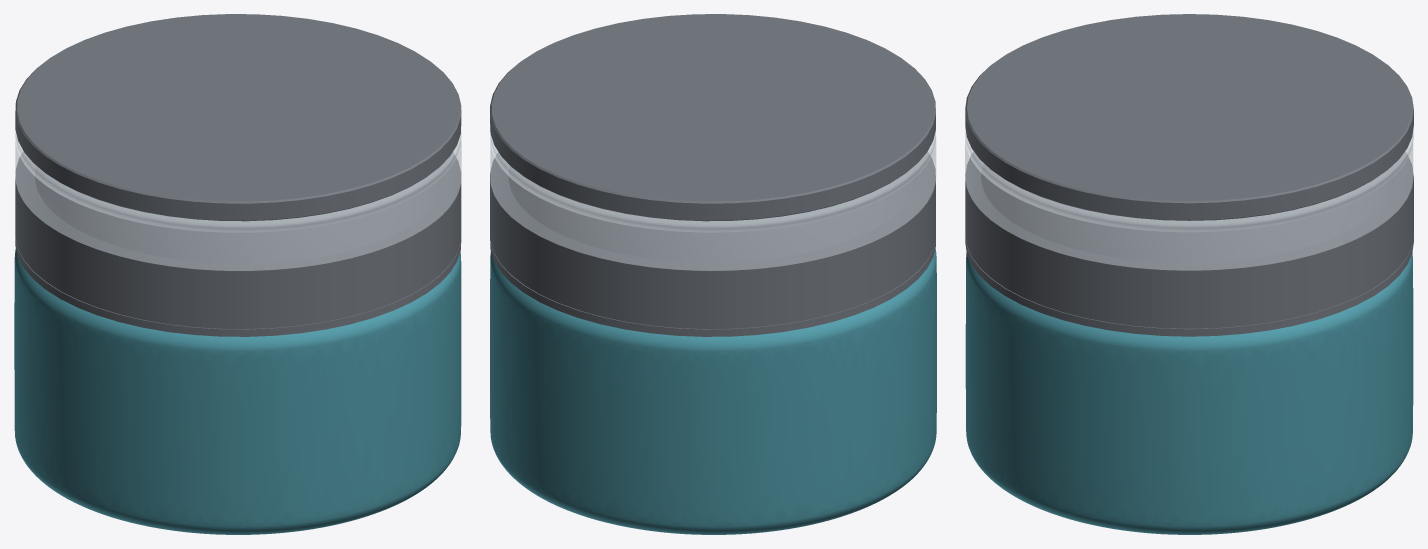
File: jar.glb
3 renders of one model, left to right at view 1: azimuth 30°, elevation 25°; view 2: azimuth 150°, elevation 25°; view 3: azimuth 270°, elevation 25°, orthographic.
Visible parts, largest first — view 1: jar white, jar chrome up, jar chrome, jar glass, jar up glass; view 2: jar white, jar chrome up, jar chrome, jar glass, jar up glass; view 3: jar white, jar chrome up, jar chrome, jar glass, jar up glass.
Part boxes in pixels (x1,y1,x2,y2): jar white: (14,248,461,534); jar chrome up: (15,14,461,221); jar chrome: (15,152,461,336); jar glass: (15,134,461,270); jar up glass: (15,131,460,232); jar white: (490,248,936,534); jar chrome up: (490,14,935,221); jar chrome: (490,152,935,336); jar glass: (490,133,935,270); jar up glass: (490,131,935,232); jar white: (965,252,1413,534); jar chrome up: (965,14,1413,220); jar chrome: (965,151,1413,336); jar glass: (965,134,1412,270); jar up glass: (965,128,1413,231).
Bounding box in the file's own units: 2.67 × 2.25 × 2.68.
